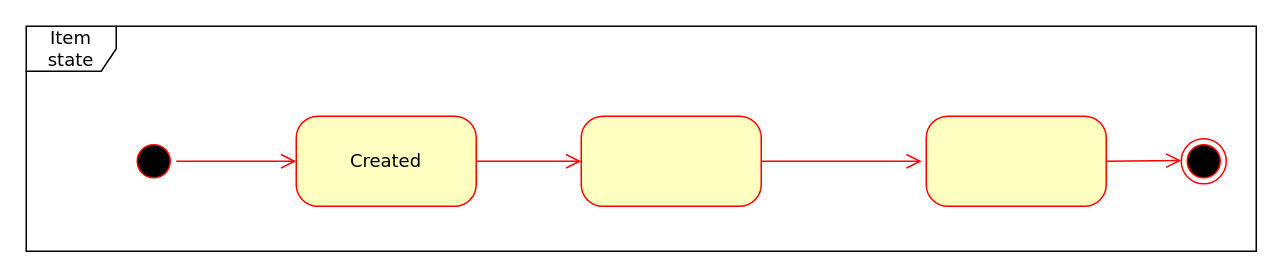
The diagram is 1283 pixels wide and 278 high, and some of its shapes have lost their labels. The centre of each missing label's shape, as x and y in pixels:
"Bought" belongs at (670,160).
"Shipped" belongs at (1015,160).
